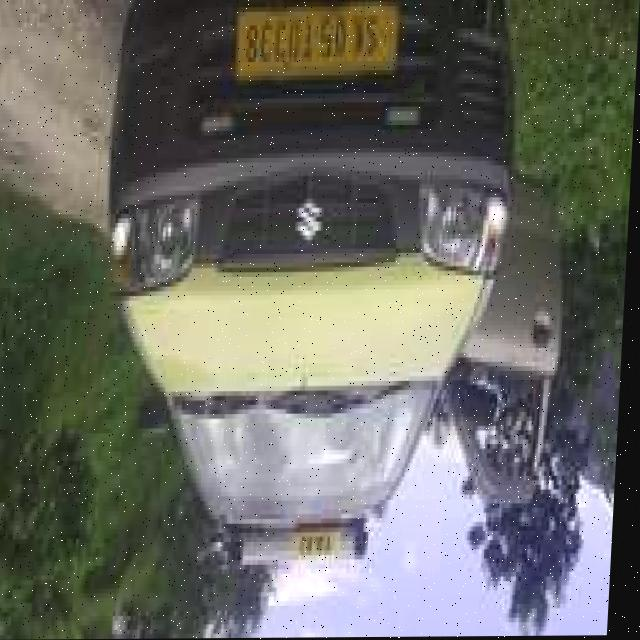plate: (233, 0, 404, 86)
